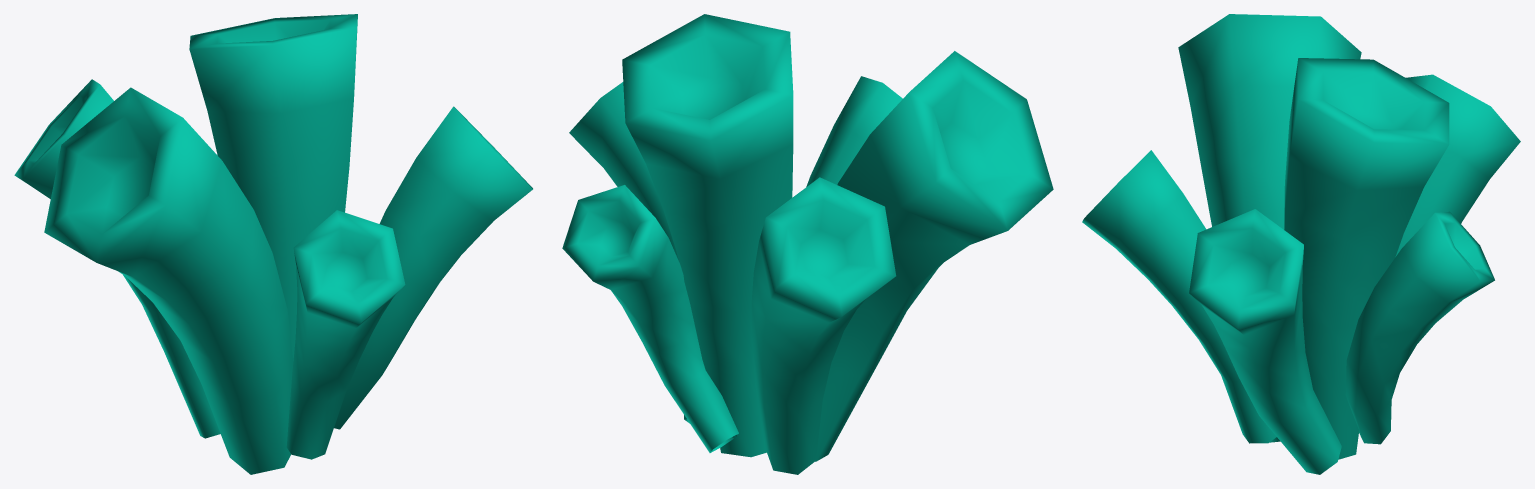
Rendered from Coral_25.fbx.
3 views of the same model, side by side, from view 1: azimuth 30°, elevation 25°; view 2: azimuth 150°, elevation 25°; view 3: azimuth 270°, elevation 25° (orthographic). The views are drawn at different scales.
Parts seen in each view (by area): view 1: Coral_25; view 2: Coral_25; view 3: Coral_25.
Part boxes in pixels (x1,y1,x2,y2): Coral_25: (14,14,532,474); Coral_25: (562,14,1053,474); Coral_25: (1082,14,1520,474).
Bounding box in the file's own units: 54.91 × 48.48 × 49.17.
